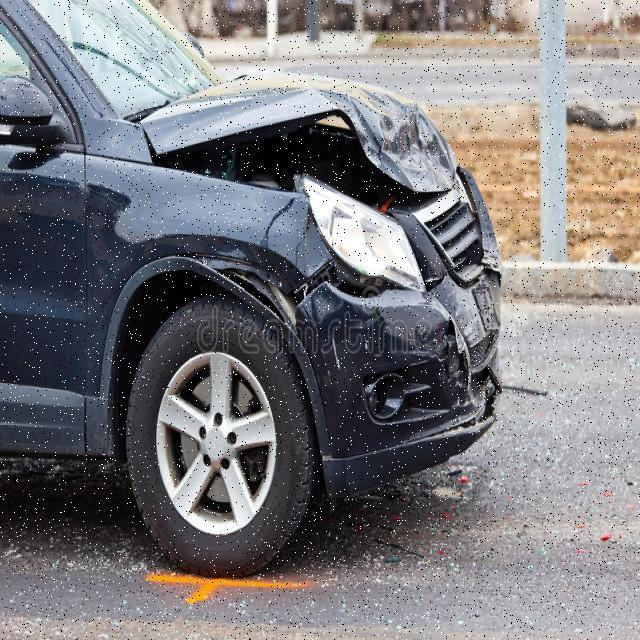Headlight-Damage: (290, 167, 432, 292)
bonnet-dent: (140, 53, 467, 208)
fender-dent: (86, 148, 284, 349)
front-bumper-dent: (288, 268, 514, 468)
